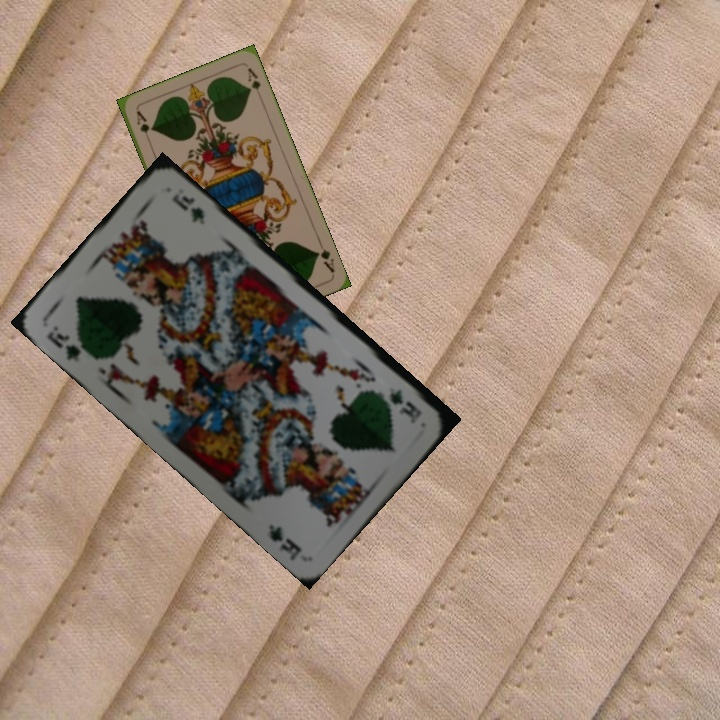GA: (312, 237, 337, 276), (132, 107, 154, 146)
GK: (42, 321, 84, 365), (385, 383, 425, 423)
